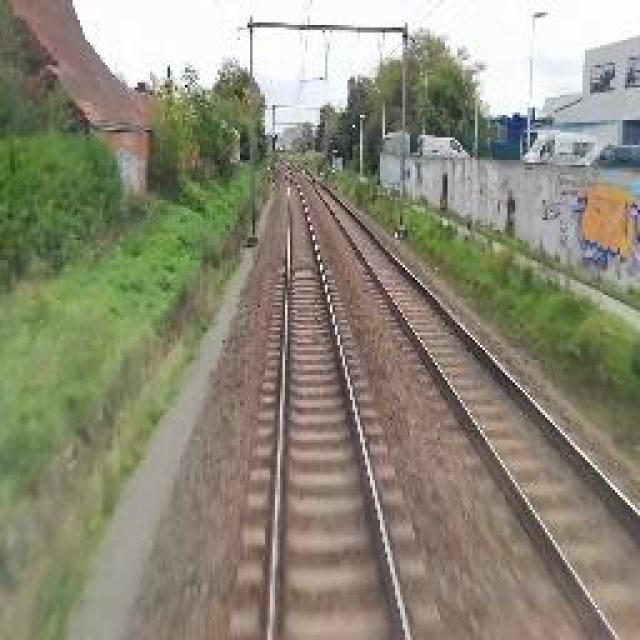rail: (223, 170, 447, 637)
